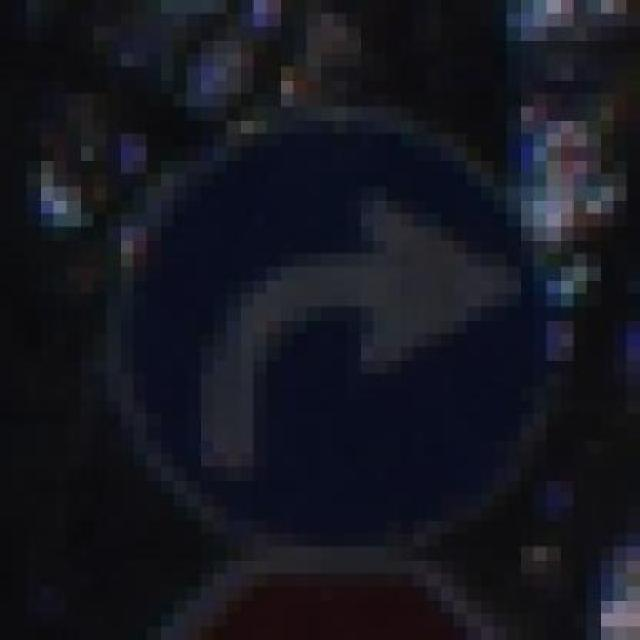Turn right ahead: (80, 80, 574, 560)
